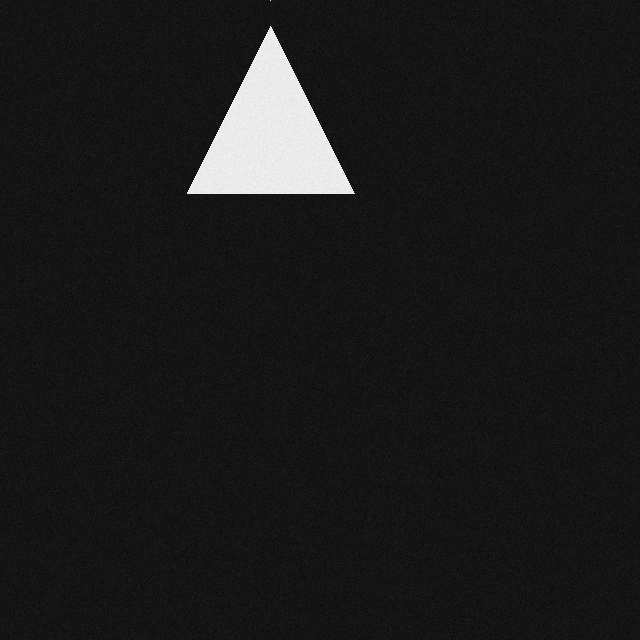triangle: (178, 13, 345, 180)
